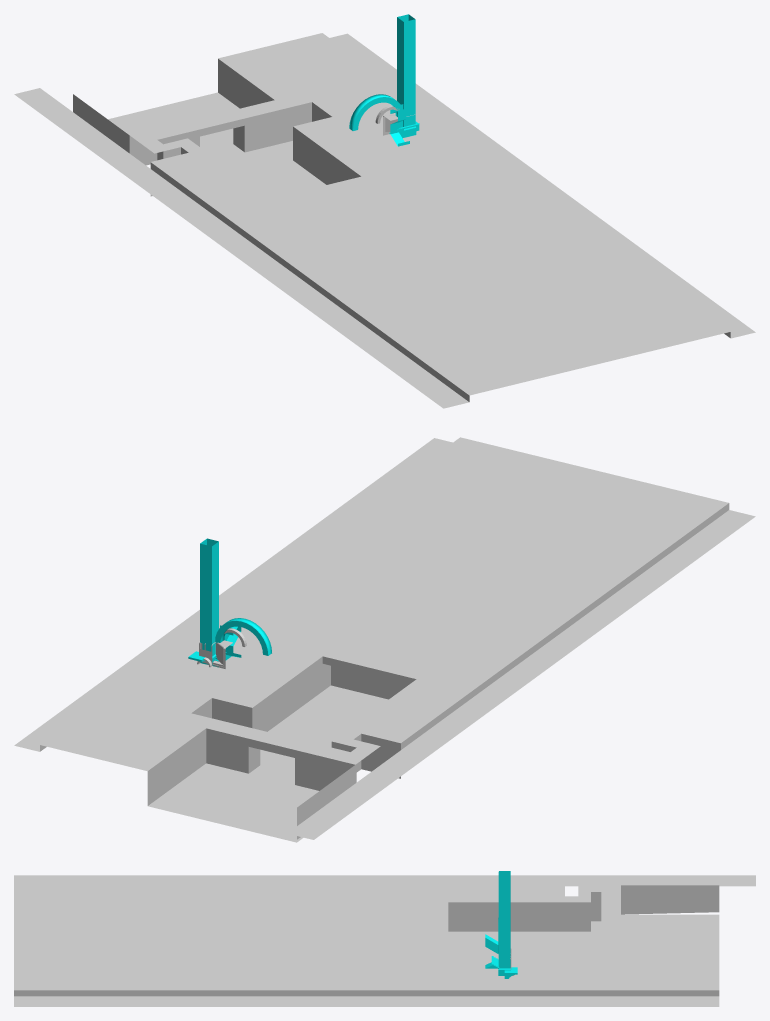
File: Grosoeuvre.fbx
The picture shows the model from 3 angles, top to bottom: view 1: azimuth 30°, elevation 25°; view 2: azimuth 150°, elevation 25°; view 3: azimuth 270°, elevation 25°; orthographic projection. The views are drawn at different scales.
Visible parts, largest first — view 1: megaFloor, SM_Colum_1.5_01_top; view 2: megaFloor, SM_Colum_1.5_01_top, Archs_03; view 3: megaFloor, SM_Colum_1.5_01_top.
Part boxes in pixels (x1,y1,x2,y2): megaFloor: (14, 33, 755, 408); SM_Colum_1.5_01_top: (397, 14, 415, 120); megaFloor: (14, 437, 755, 842); SM_Colum_1.5_01_top: (200, 538, 218, 648); Archs_03: (215, 618, 271, 655); megaFloor: (14, 875, 755, 1006); SM_Colum_1.5_01_top: (498, 871, 510, 961).
Size of the model in its own units: 4808 by 11448 by 2208.
1 material, 1 textured.
